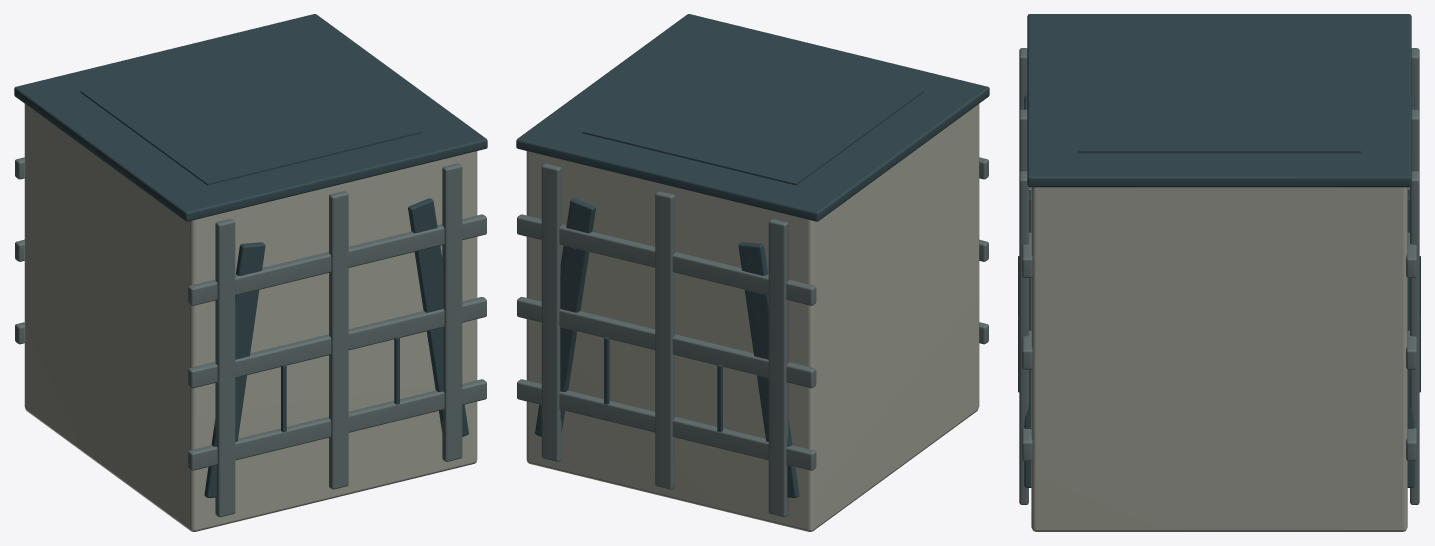
File: abutment-top-0.glb
The picture shows the model from 3 angles, left to right: view 1: azimuth 30°, elevation 25°; view 2: azimuth 150°, elevation 25°; view 3: azimuth 270°, elevation 25°; orthographic projection. The views are drawn at different scales.
Visible parts, largest first — view 1: abutment_1, abutment_2, abutment_0; view 2: abutment_1, abutment_2, abutment_0; view 3: abutment_1, abutment_2, abutment_0.
Part boxes in pixels (left/top/right/bottom): abutment_1: left=24, top=104, right=477, bottom=531; abutment_2: left=14, top=14, right=487, bottom=497; abutment_0: left=15, top=157, right=486, bottom=517; abutment_1: left=526, top=104, right=979, bottom=531; abutment_2: left=516, top=14, right=989, bottom=497; abutment_0: left=517, top=157, right=988, bottom=517; abutment_1: left=1031, top=187, right=1407, bottom=531; abutment_2: left=1018, top=14, right=1420, bottom=487; abutment_0: left=1019, top=48, right=1419, bottom=504.
Bounding box in the file's own units: 0.96 × 1 × 0.996.
